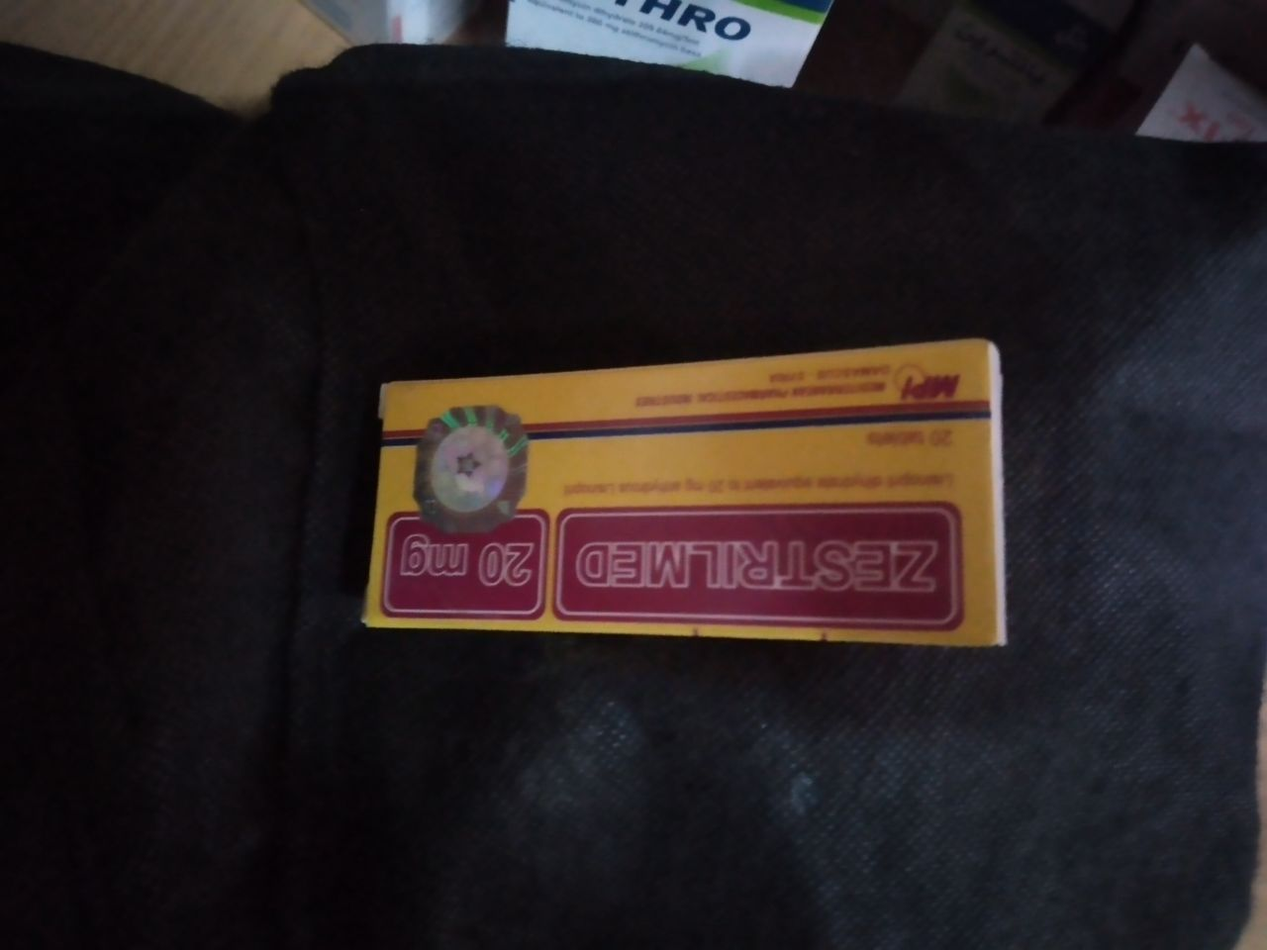Medicine: (356, 334, 1022, 698)
